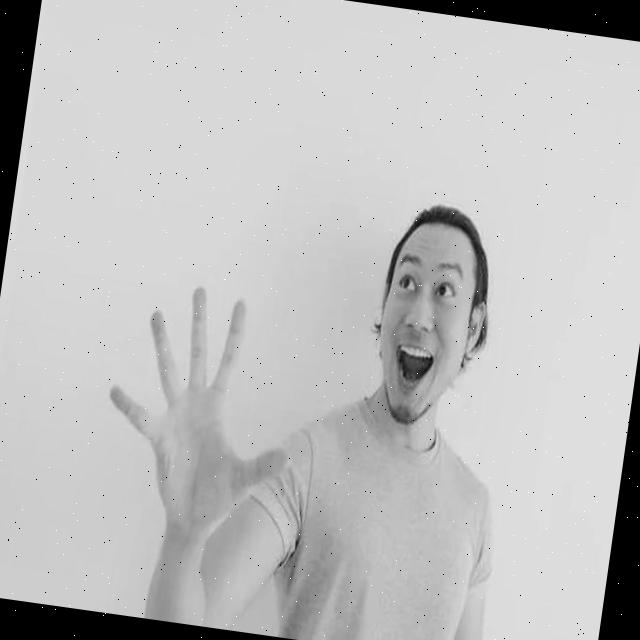Surprised: (367, 220, 484, 430)
